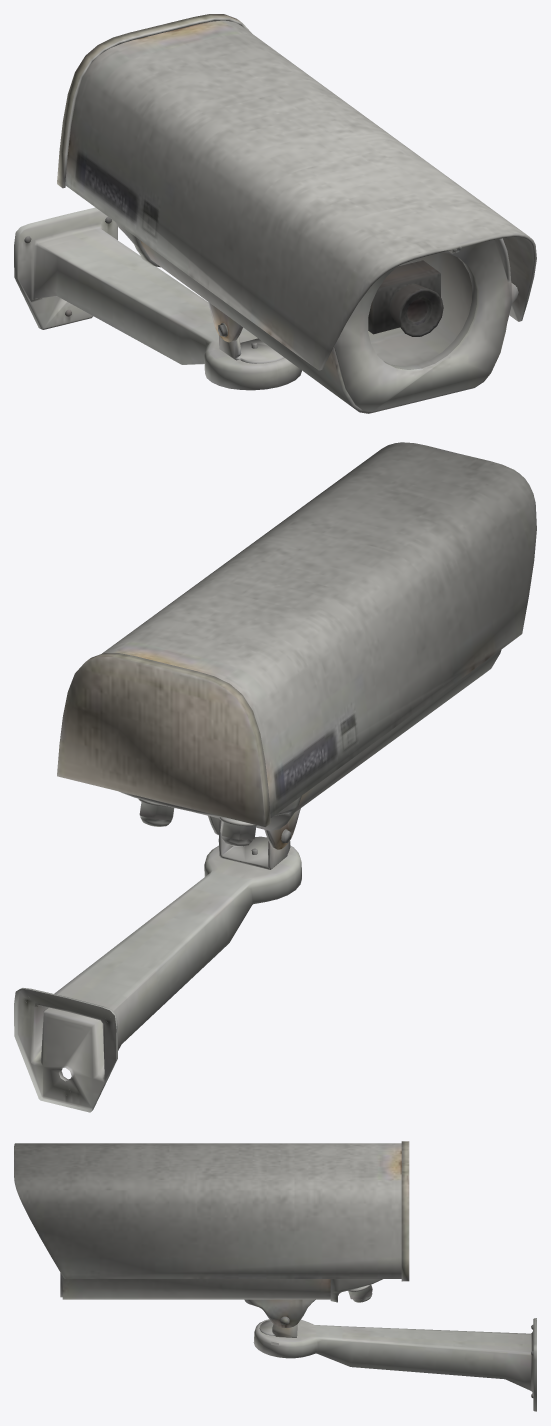
The model's file is security_camera.glb.
3 views of the same model, one above another, from view 1: azimuth 30°, elevation 25°; view 2: azimuth 150°, elevation 25°; view 3: azimuth 270°, elevation 25° (orthographic). The views are drawn at different scales.
Parts seen in each view (by area): view 1: security_camera_01; view 2: security_camera_01; view 3: security_camera_01.
Boxes of the visible parts, x1,y1,x2,y2 form: security_camera_01: [14, 14, 536, 413]; security_camera_01: [14, 442, 536, 1112]; security_camera_01: [14, 1141, 536, 1411].
Bounding box in the file's own units: 0.1695 × 0.2861 × 0.5537.
Materials: 2 (2 with a texture image).
